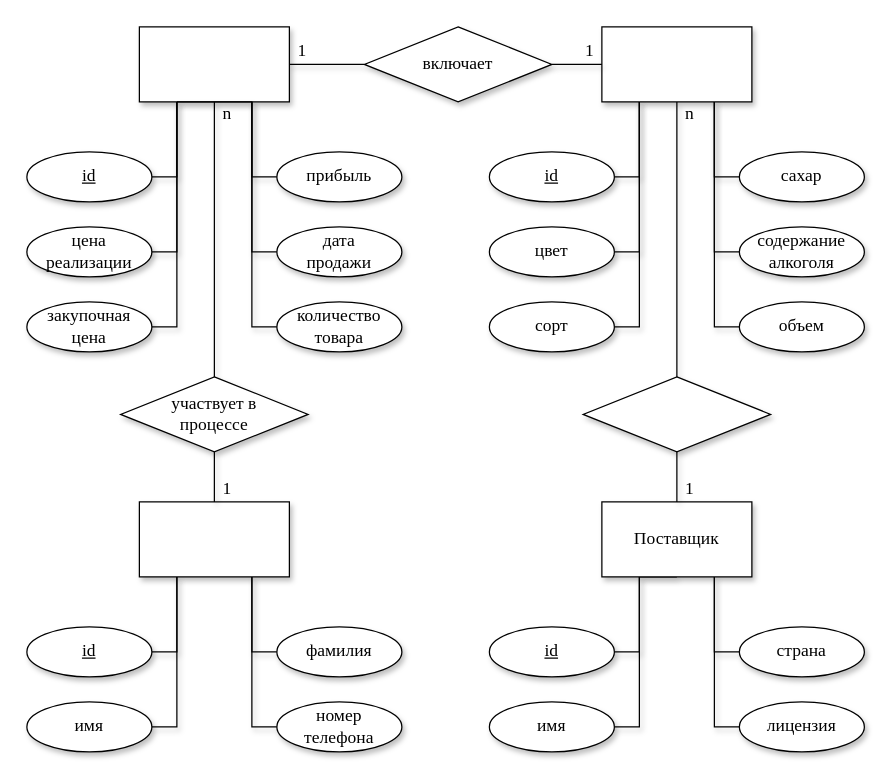
This 894x783 diagram has some shape labels left out. The shapes that lost their labels are listed below. From the top down, each one's centre as x and y in pixels, then its label:
At pixel 215 66: "Продажа".
At pixel 677 66: "Вино".
At pixel 677 416: "продает".
At pixel 215 541: "Покупатель".
